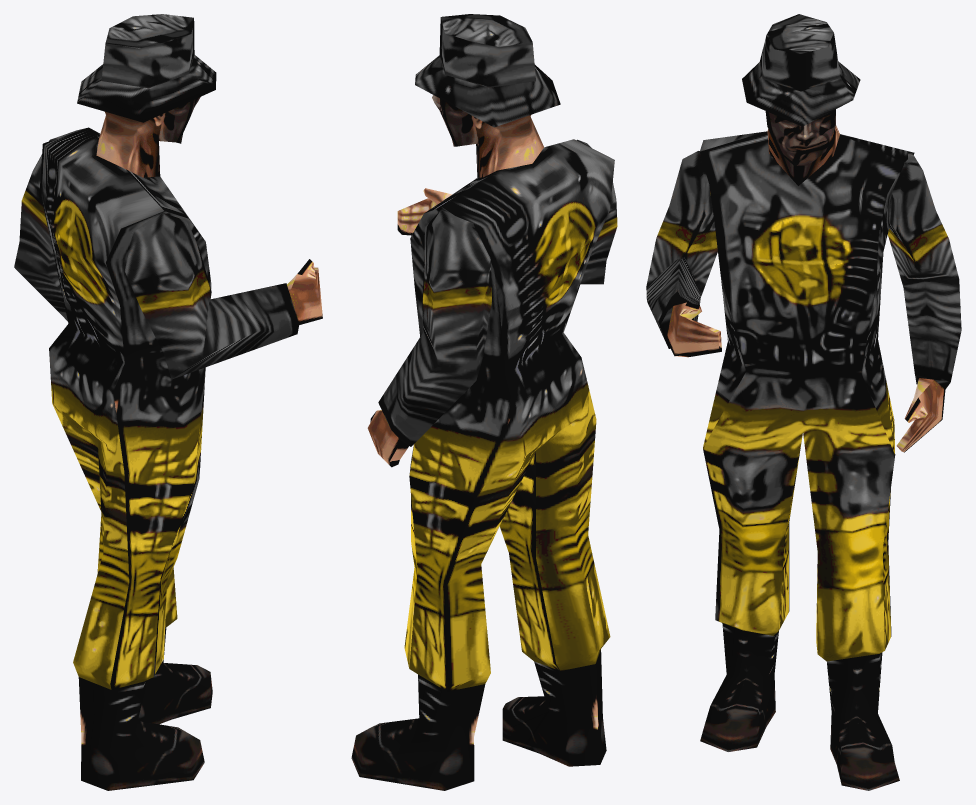
Rendered from sniper2_yellow.glb.
3 renders of one model, left to right at view 1: azimuth 30°, elevation 25°; view 2: azimuth 150°, elevation 25°; view 3: azimuth 270°, elevation 25°, orthographic. The views are drawn at different scales.
Visible parts, largest first — view 1: sniper2; view 2: sniper2; view 3: sniper2.
Part boxes in pixels (x1,y1,x2,y2): sniper2: [14, 14, 322, 790]; sniper2: [351, 14, 617, 790]; sniper2: [646, 14, 961, 790].
Size of the model in its own units: 24.91 by 77.61 by 31.
1 material, 1 textured.
